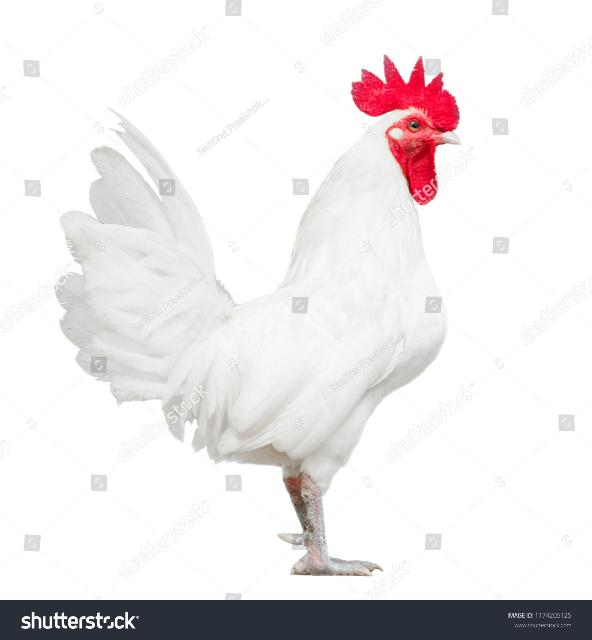Chicken: (56, 51, 465, 574)
